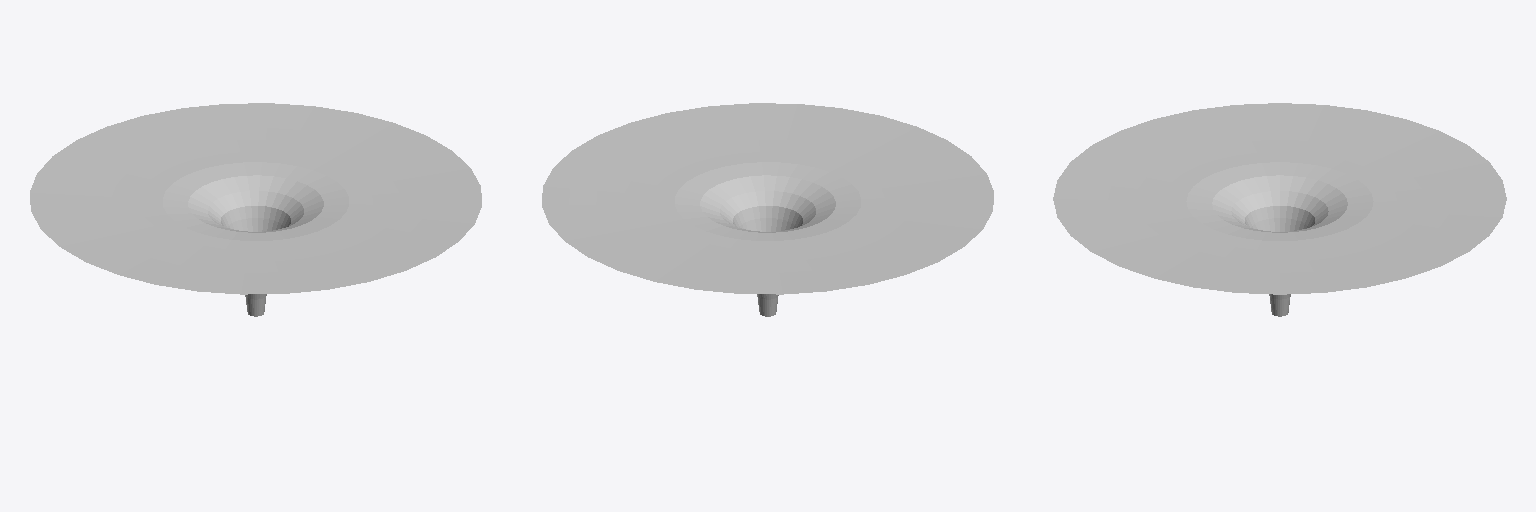
The model's file is hopper.obj.
3 views of the same model, side by side, from view 1: azimuth 30°, elevation 25°; view 2: azimuth 150°, elevation 25°; view 3: azimuth 270°, elevation 25° (orthographic).
Parts seen in each view (by area): view 1: Cylinder; view 2: Cylinder; view 3: Cylinder.
Part boxes in pixels (bbox=[...]): Cylinder: bbox=[30, 103, 481, 316]; Cylinder: bbox=[542, 103, 993, 316]; Cylinder: bbox=[1053, 103, 1506, 316].
Size of the model in its own units: 78.03 by 21.67 by 78.03.